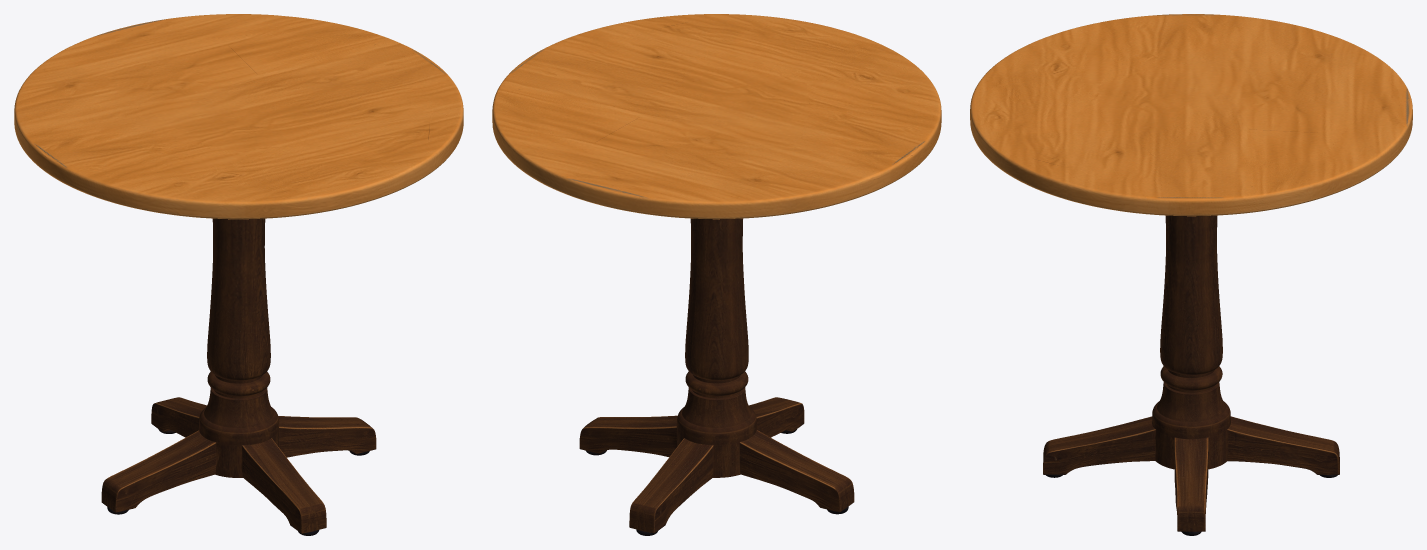
File: ck_round_table_v2-original.glb
The picture shows the model from 3 angles, left to right: view 1: azimuth 30°, elevation 25°; view 2: azimuth 150°, elevation 25°; view 3: azimuth 270°, elevation 25°; orthographic projection.
Bounding box in the file's own units: 1.9 × 1.75 × 1.9.
1 material, 1 textured.
